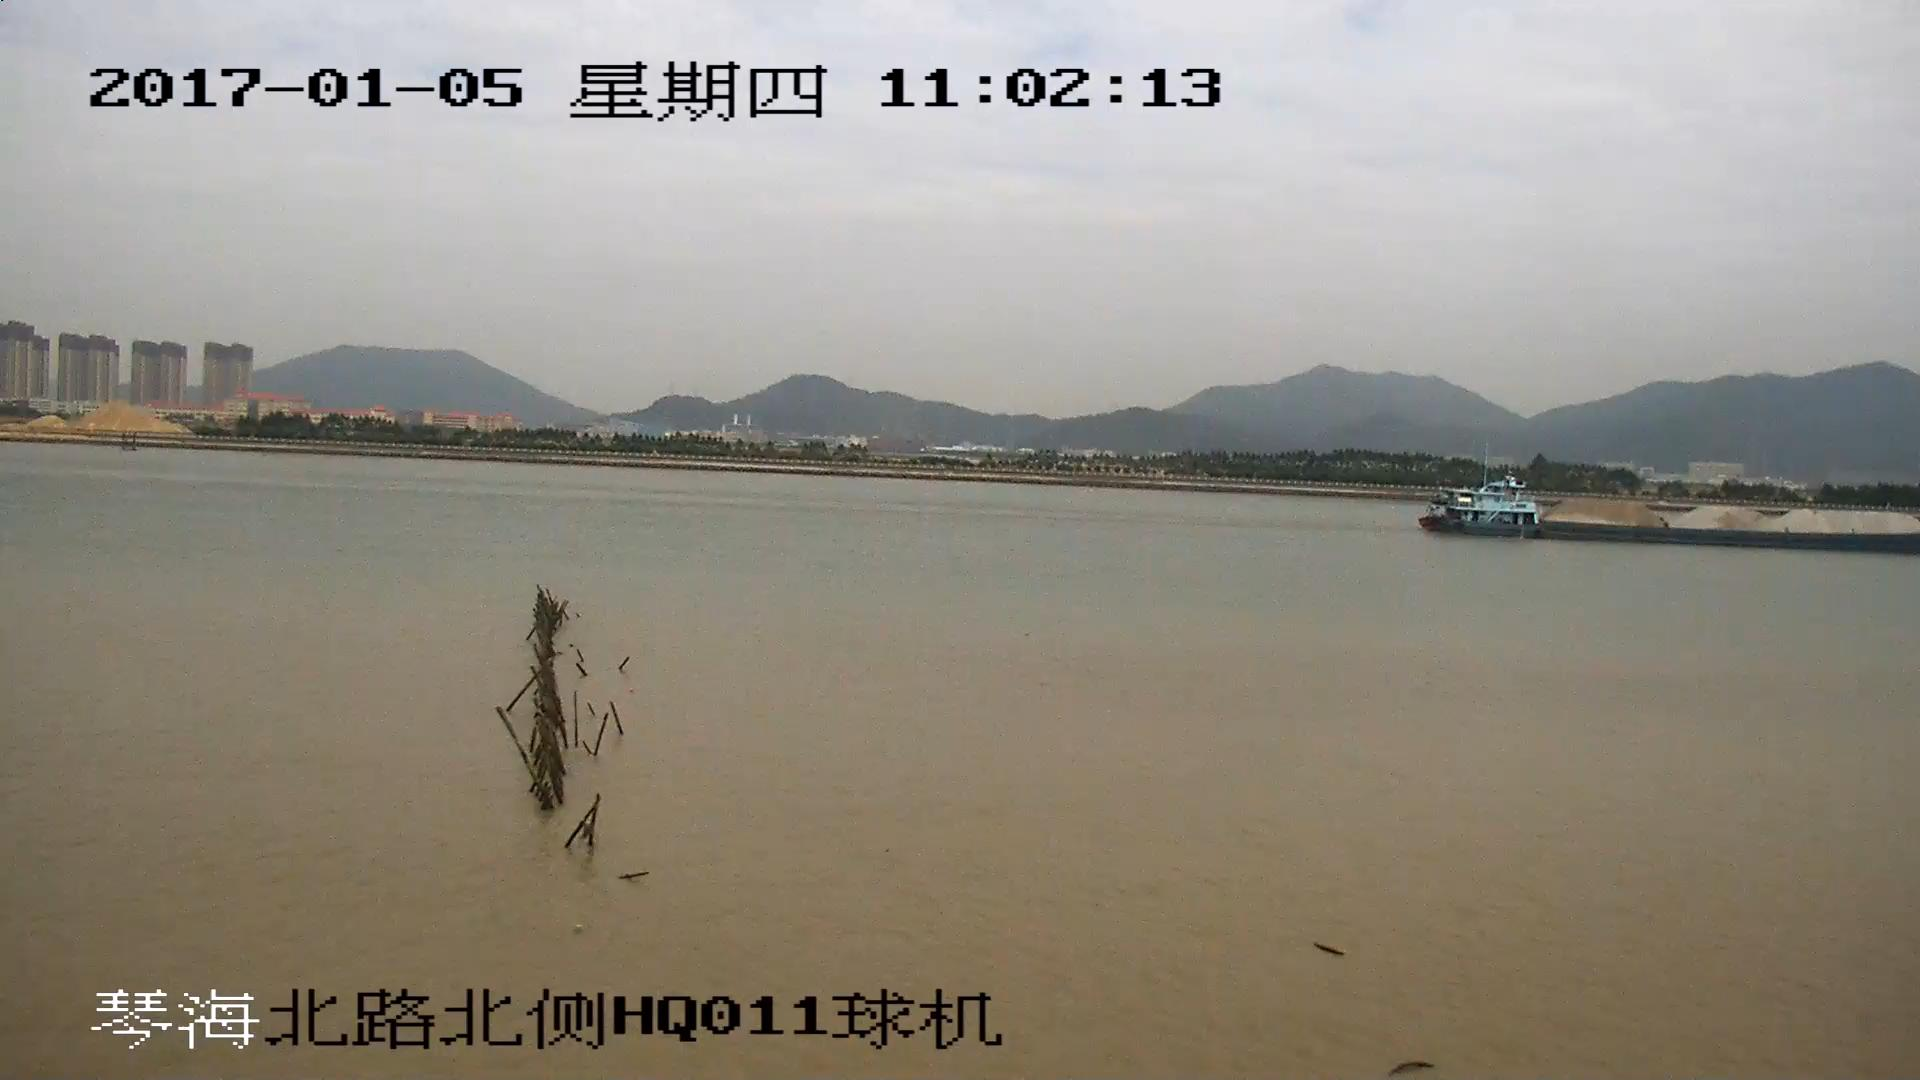ore carrier: (1422, 480, 1920, 548)
